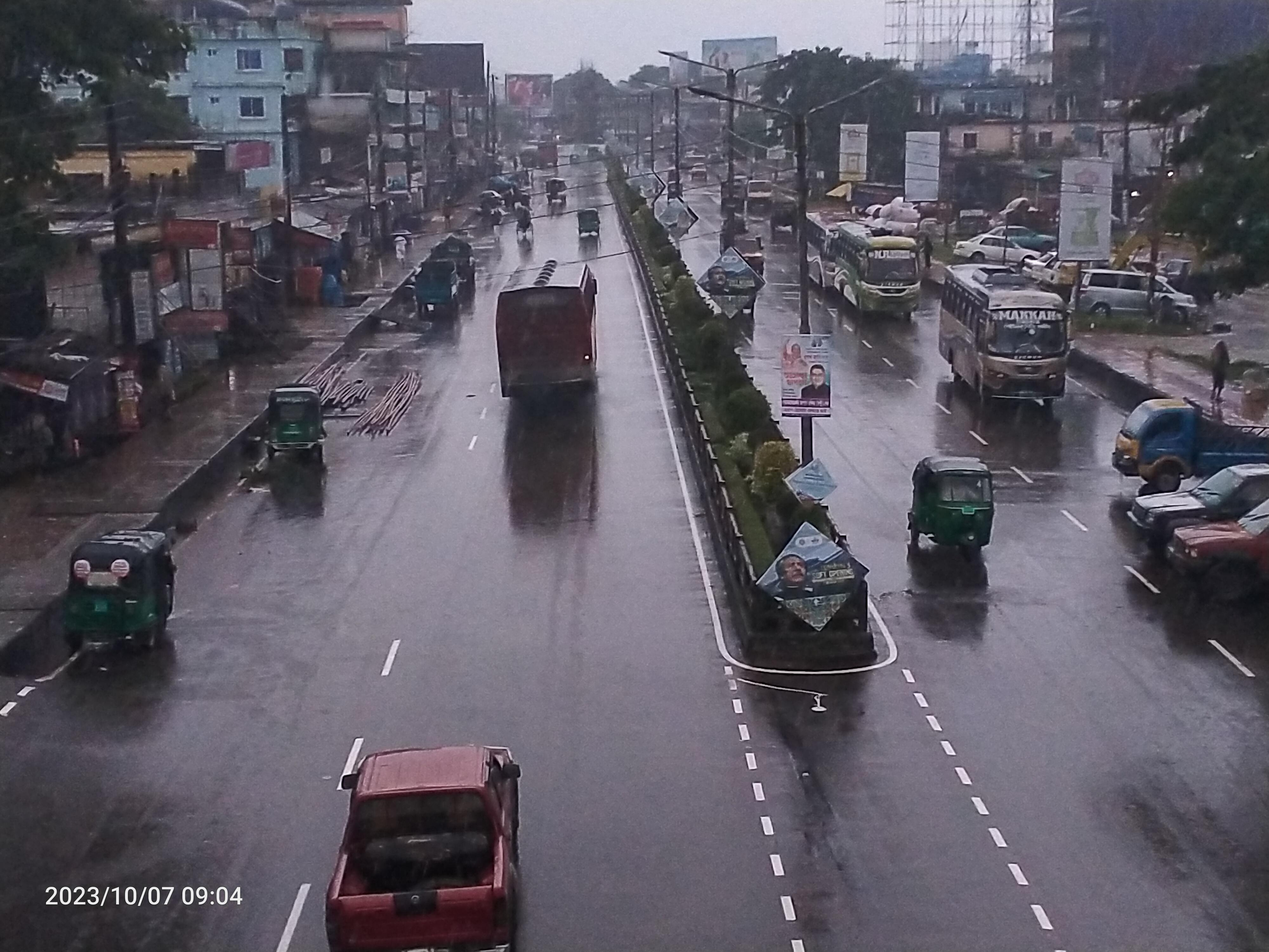Bus: (917, 243, 1112, 429), (450, 249, 624, 427), (811, 201, 940, 327)
Car: (288, 710, 573, 952), (1068, 267, 1231, 344), (949, 226, 1042, 275)
Truck: (1110, 373, 1269, 506), (1156, 494, 1269, 619)
